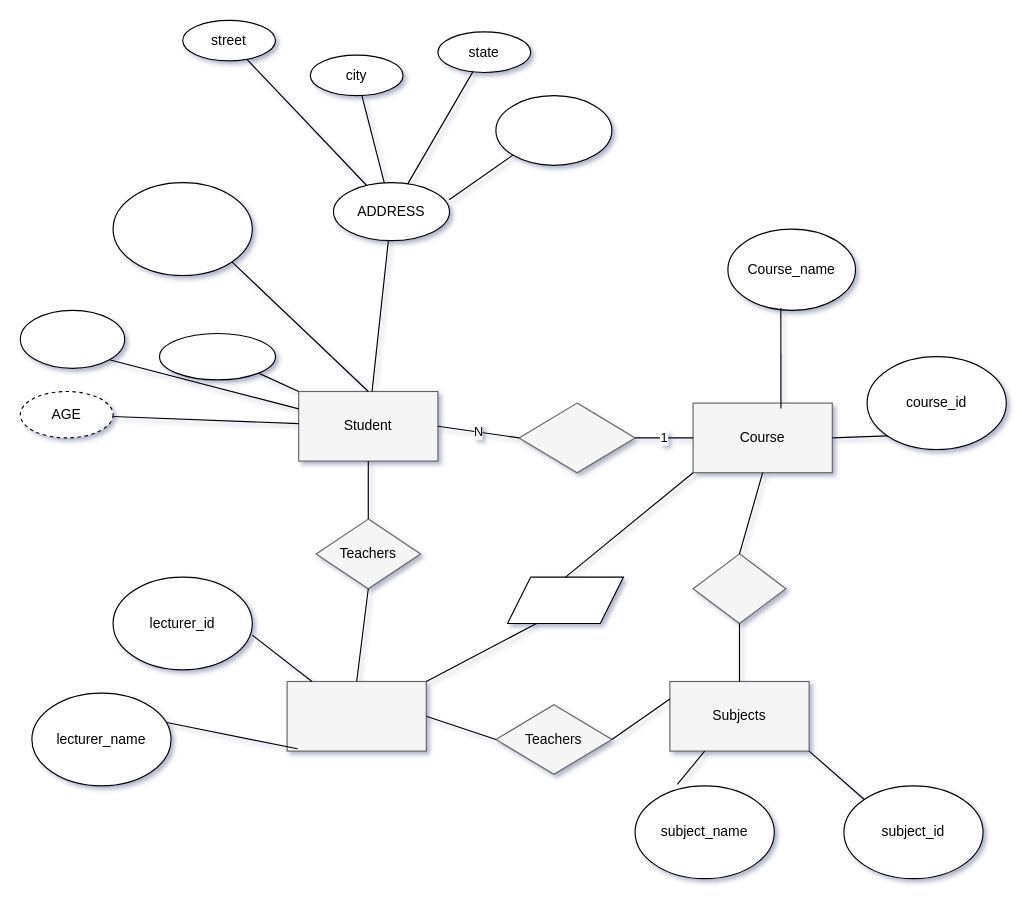
The diagram is 1034 pixels wide and 906 high, and some of its shapes have lost their labels. The box of each missing label's shape, as (x1, y1, x2, y2) in pixels:
Attends: (518, 402, 635, 473)
DOB: (19, 309, 125, 368)
has: (692, 553, 786, 624)
Lecturer: (286, 680, 426, 751)
Pin: (495, 95, 612, 165)
student_ID: (158, 332, 276, 380)
Student_Name: (112, 182, 252, 276)
Takes: (506, 576, 624, 624)
